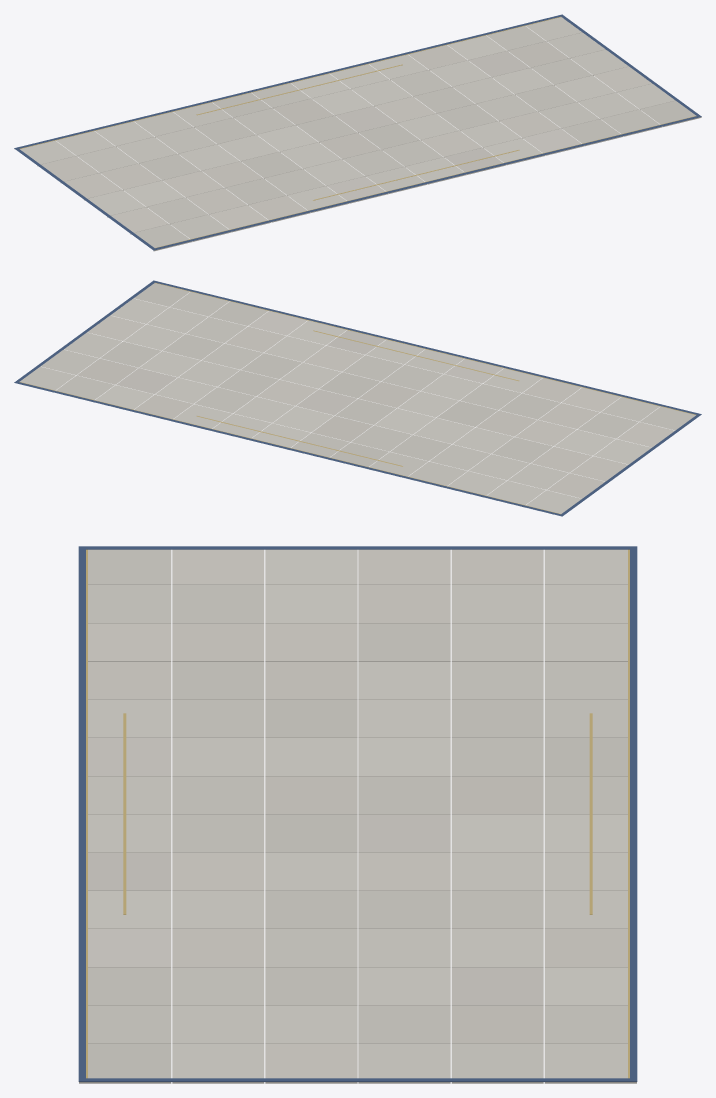
File: gate_forecourt.glb
3 views of the same model, one above another, from view 1: azimuth 30°, elevation 25°; view 2: azimuth 150°, elevation 25°; view 3: azimuth 270°, elevation 25° (orthographic). The views are drawn at different scales.
Visible parts, largest first — view 1: gate_forecourt; view 2: gate_forecourt; view 3: gate_forecourt.
Part boxes in pixels (x1=…): gate_forecourt: x1=14, y1=14, x2=701, y2=251; gate_forecourt: x1=14, y1=280, x2=701, y2=516; gate_forecourt: x1=78, y1=546, x2=637, y2=1083.
Bounding box in the file's own units: 34 × 0.07 × 15.
